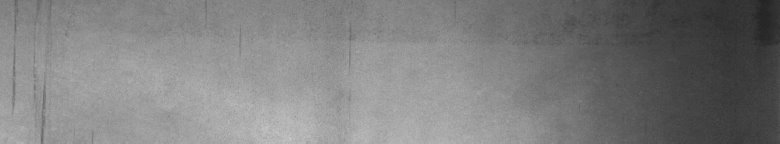ka: (12, 20, 48, 136)
